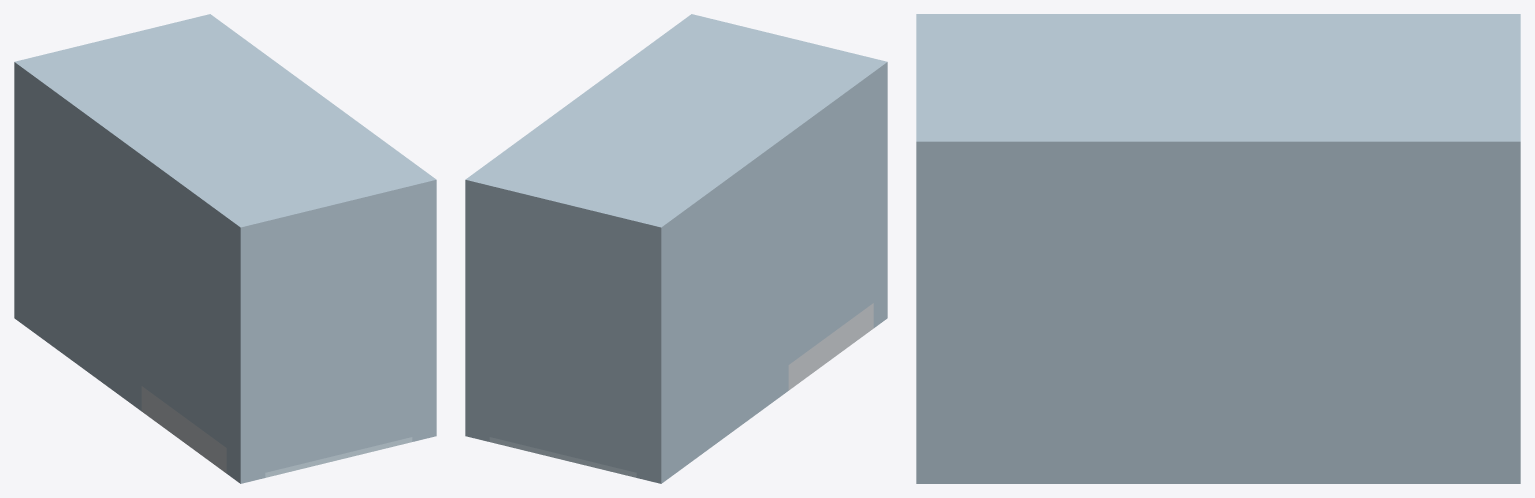
Rendered from frozen-slide.glb.
3 renders of one model, left to right at view 1: azimuth 30°, elevation 25°; view 2: azimuth 150°, elevation 25°; view 3: azimuth 270°, elevation 25°, orthographic. The views are drawn at different scales.
Parts seen in each view (by area): view 1: ice-rock_7, ice-rock_1, plug_slide_south, plug_ice_west, ice-rock_3, ice-rock_2, ice-rock_6, ice-rock_5, plug_slide_south.001, snow_1, ice_1; view 2: ice-rock_7, ice-rock_1, plug_slide_north, plug_ice_west, ice-rock_2, ice-rock_6, ice-rock_4, ice-rock_3, plug_slide_north.001, snow_1, ice_1; view 3: ice-rock_2, ice-rock_7.
Part boxes in pixels (bbox=[...]): ice-rock_7: bbox=[14, 14, 436, 252]; ice-rock_1: bbox=[14, 88, 141, 411]; plug_slide_south: bbox=[265, 237, 412, 452]; plug_ice_west: bbox=[141, 232, 226, 447]; ice-rock_3: bbox=[226, 243, 265, 483]; ice-rock_2: bbox=[412, 205, 436, 441]; ice-rock_6: bbox=[141, 181, 226, 293]; ice-rock_5: bbox=[265, 211, 412, 272]; plug_slide_south.001: bbox=[265, 416, 412, 472]; snow_1: bbox=[141, 386, 226, 473]; ice_1: bbox=[265, 437, 412, 477]; ice-rock_7: bbox=[465, 14, 887, 252]; ice-rock_1: bbox=[636, 160, 788, 483]; plug_slide_north: bbox=[489, 237, 636, 452]; plug_ice_west: bbox=[788, 149, 873, 364]; ice-rock_2: bbox=[465, 205, 489, 441]; ice-rock_6: bbox=[788, 98, 873, 210]; ice-rock_4: bbox=[489, 211, 636, 272]; ice-rock_3: bbox=[873, 88, 887, 327]; plug_slide_north.001: bbox=[489, 416, 636, 472]; snow_1: bbox=[788, 303, 873, 390]; ice_1: bbox=[489, 437, 636, 477]; ice-rock_2: bbox=[916, 176, 1520, 483]; ice-rock_7: bbox=[916, 14, 1520, 175].
Size of the model in its own units: 4 by 5 by 8.
